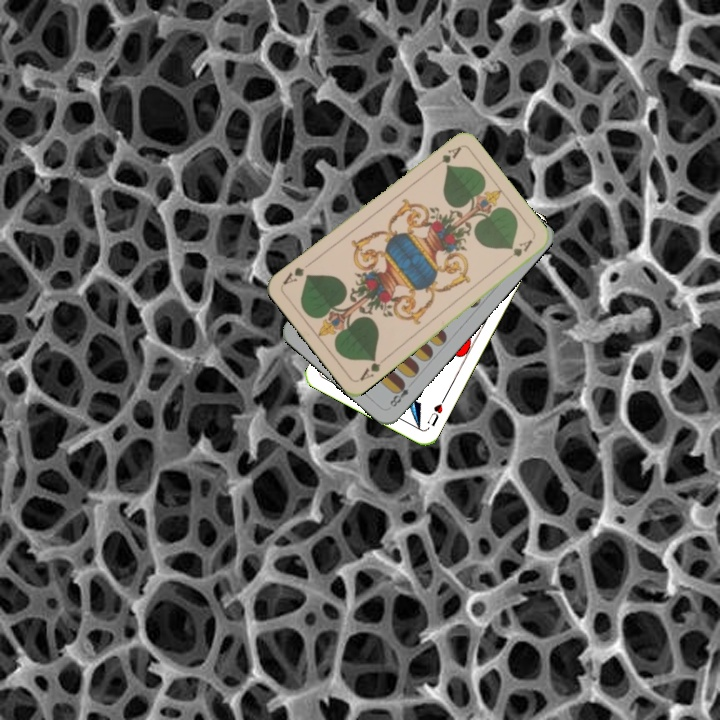E8: (386, 378, 411, 410)
GA: (428, 142, 464, 172), (355, 354, 389, 383)
HU: (423, 393, 448, 429)
